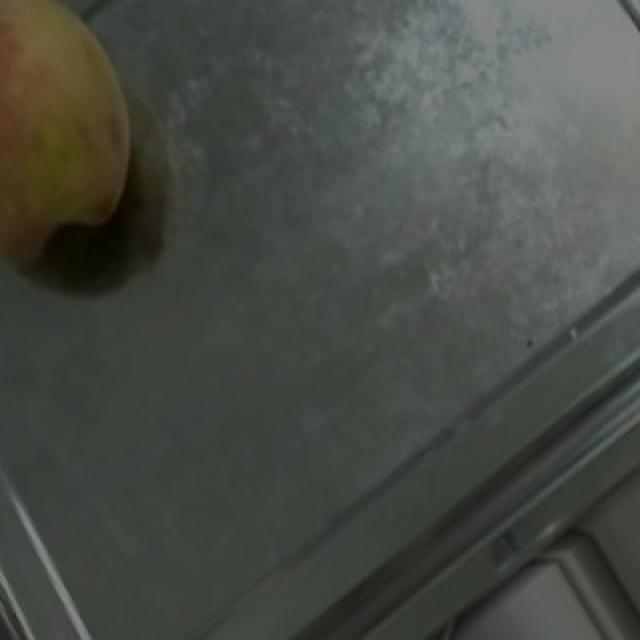Fruit: (0, 0, 158, 260)
